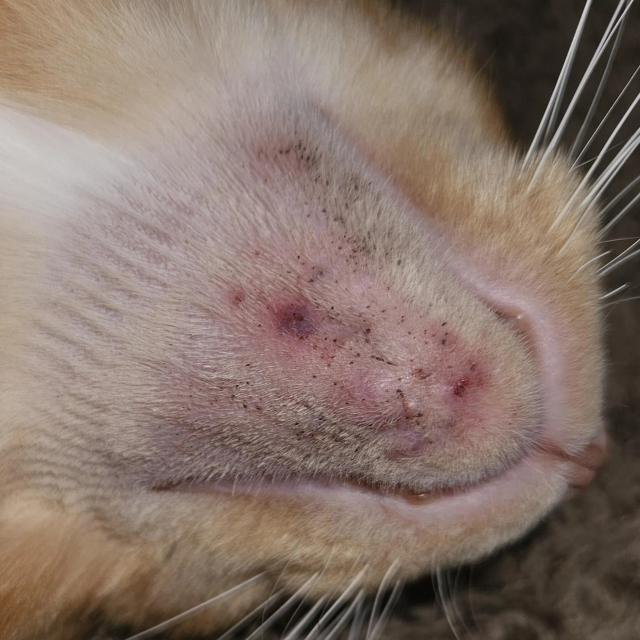cat-acne: (278, 250, 341, 293), (274, 297, 325, 345), (439, 364, 493, 403), (418, 319, 474, 355), (217, 277, 261, 321), (405, 362, 434, 388)
